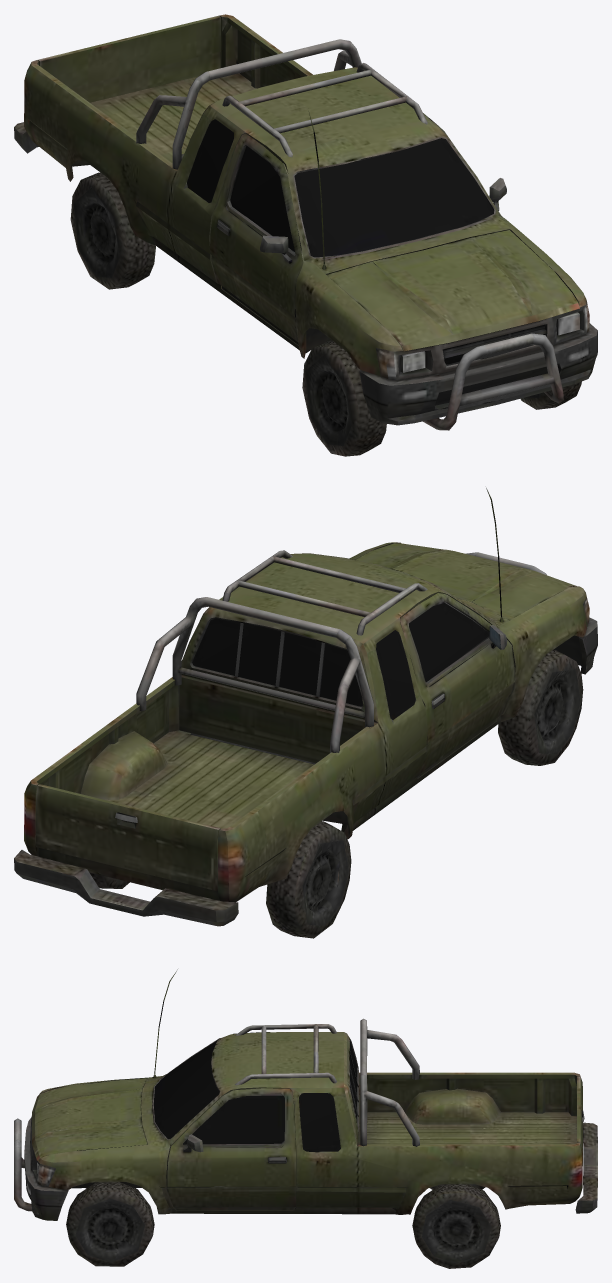
Rendered from pickup.glb.
3 renders of one model, top to bottom at view 1: azimuth 30°, elevation 25°; view 2: azimuth 150°, elevation 25°; view 3: azimuth 270°, elevation 25°, orthographic. The views are drawn at different scales.
Visible parts, largest first — view 1: pickup; view 2: pickup; view 3: pickup.
Boxes of the visible parts, left/top/right/bottom form: pickup: left=14, top=14, right=597, bottom=456; pickup: left=14, top=488, right=597, bottom=938; pickup: left=14, top=969, right=597, bottom=1268.
Bounding box in the file's own units: 1.92 × 2.31 × 5.3.
1 material, 1 textured.
